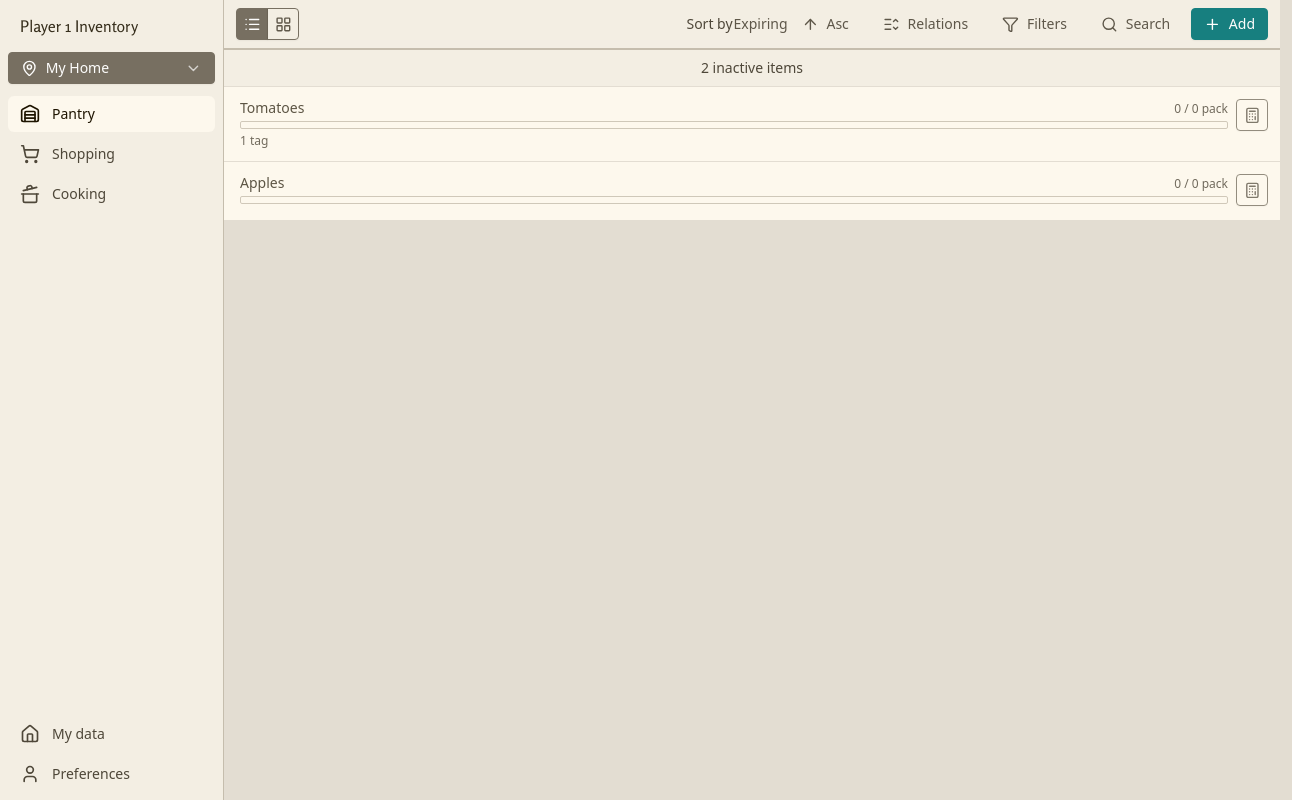
Test: Home page filtering integration › shows FilterStatus when filters active but toggle off
Expected: the heading "Tomatoes" is shown, 240,99 -> 304,116
# Enable filters and select a tag
Click the button with aria-label "toggle filters".
click(1035, 24)  # box 989,8 -> 1080,40
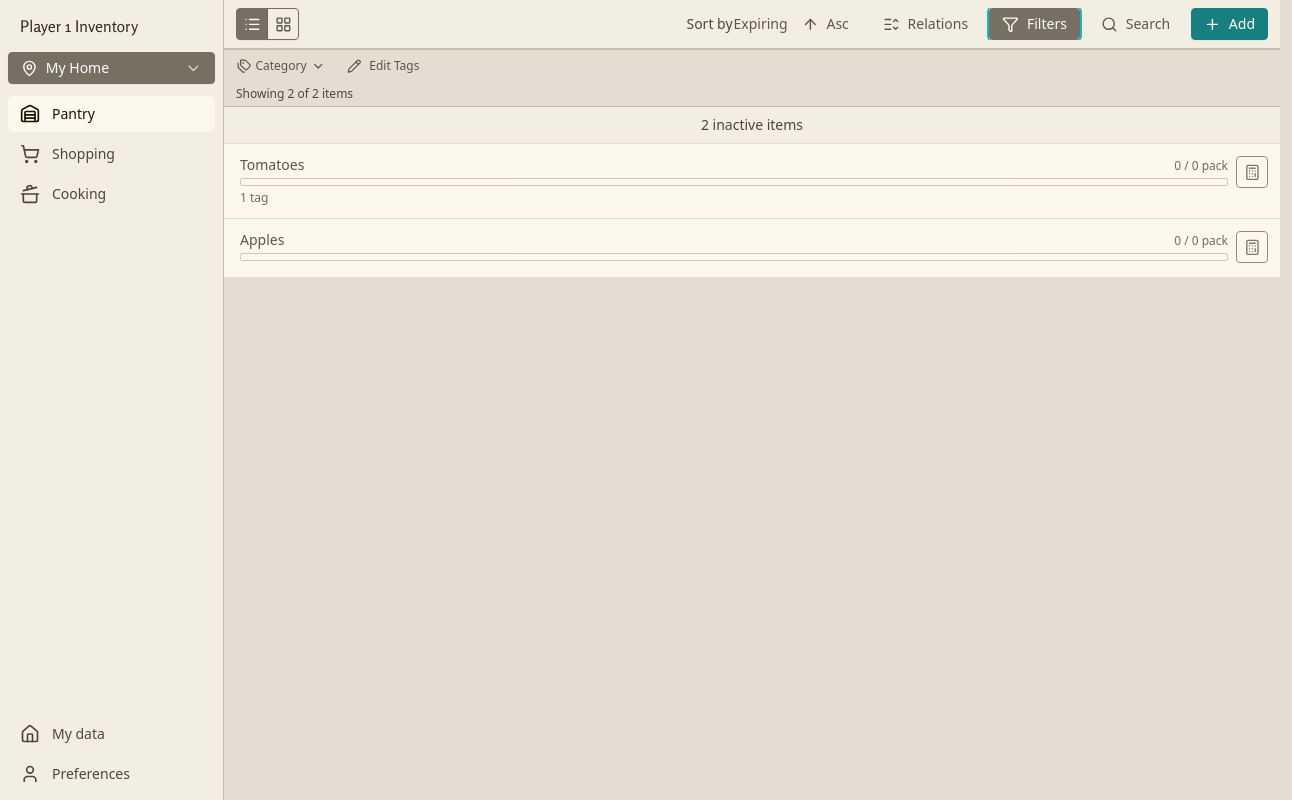
Click the button "Category".
click(281, 66)  # box 228,54 -> 334,78
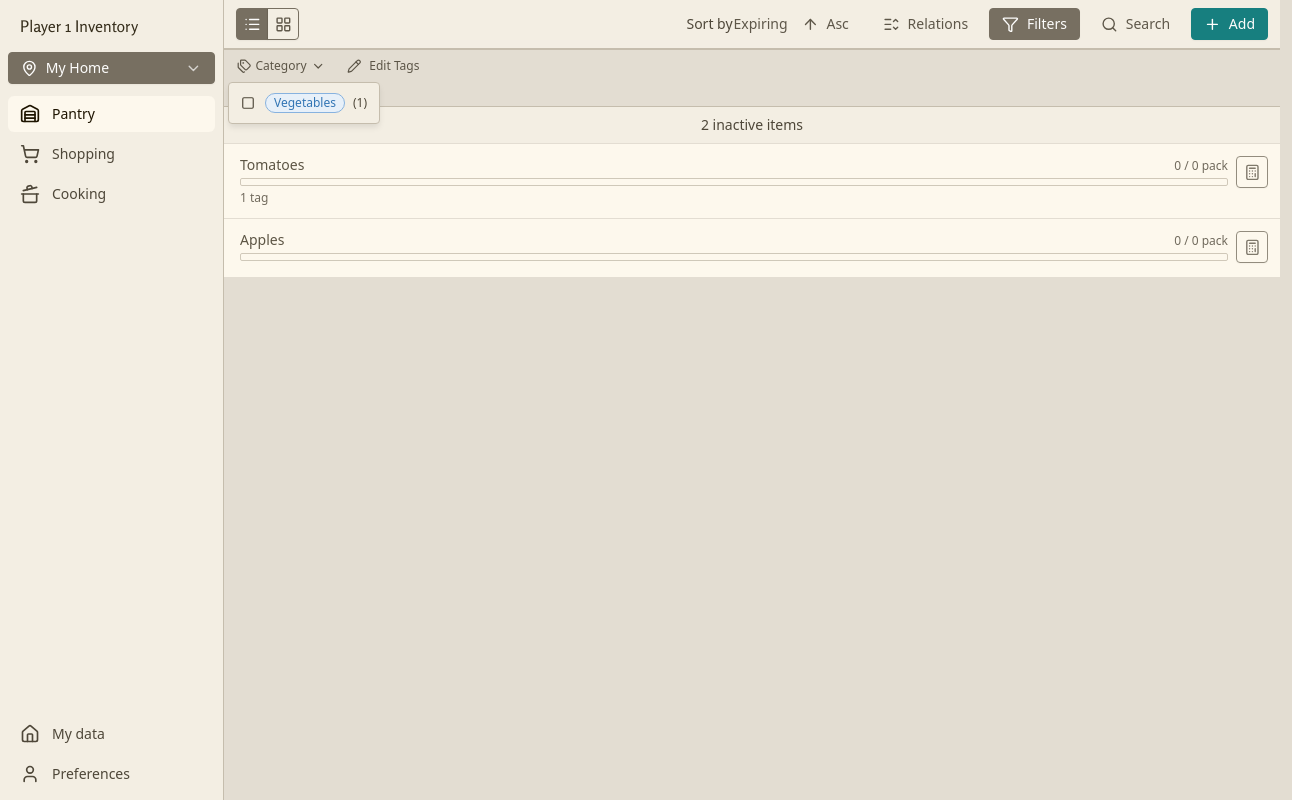
Click the menu item "Vegetables (1)".
click(304, 103)  # box 233,87 -> 375,119
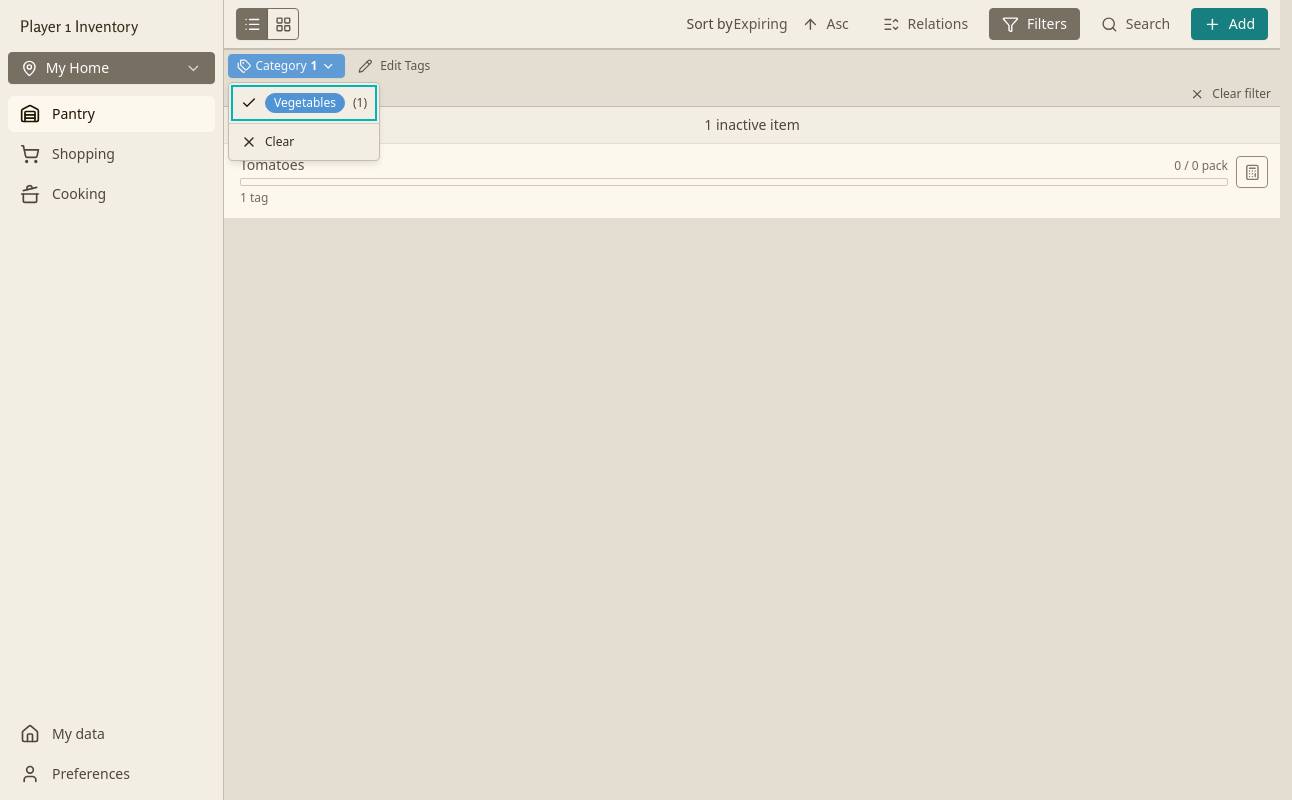
Expected: the heading "Tomatoes" is shown, 240,156 -> 304,174
Expected: the link "Apples" is gone
# Close dropdown
Press Escape
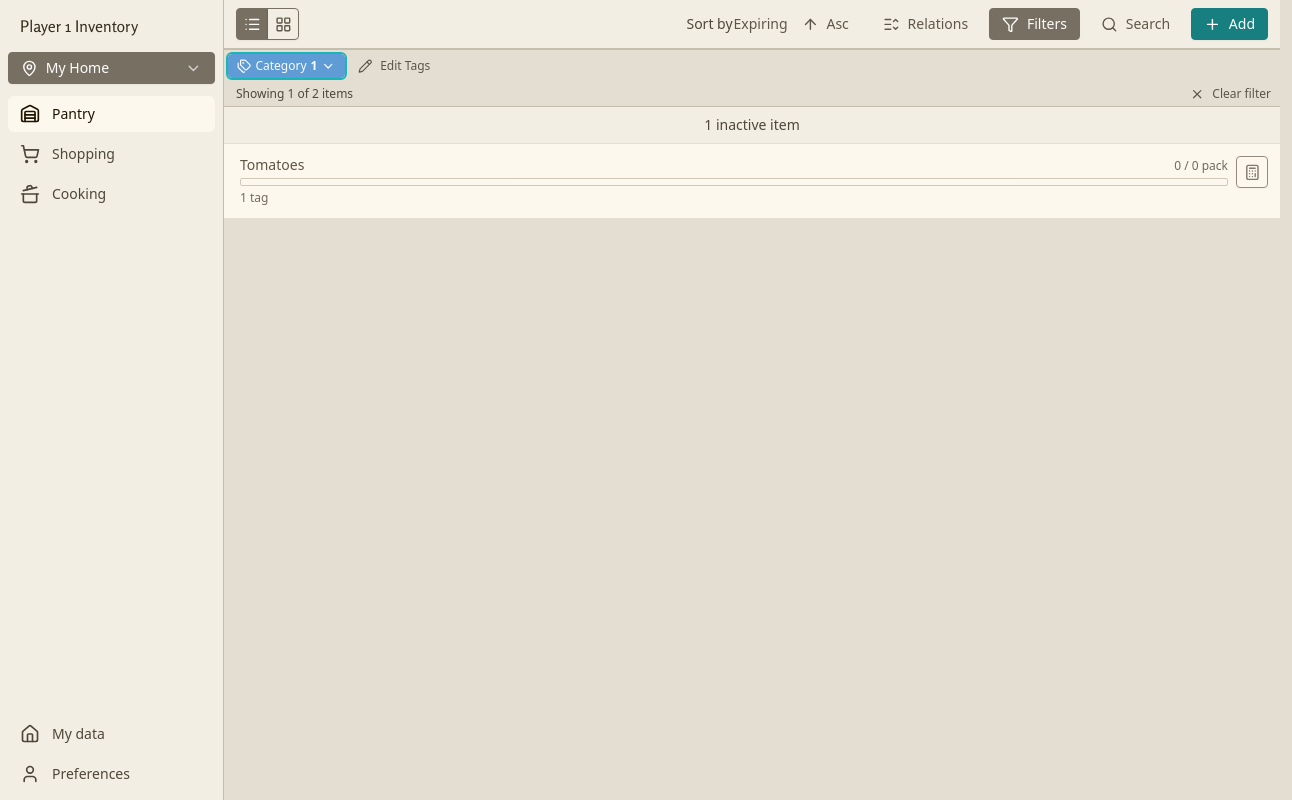
# Toggle filters OFF
Click the button with aria-label "toggle filters".
click(1035, 24)  # box 989,8 -> 1080,40
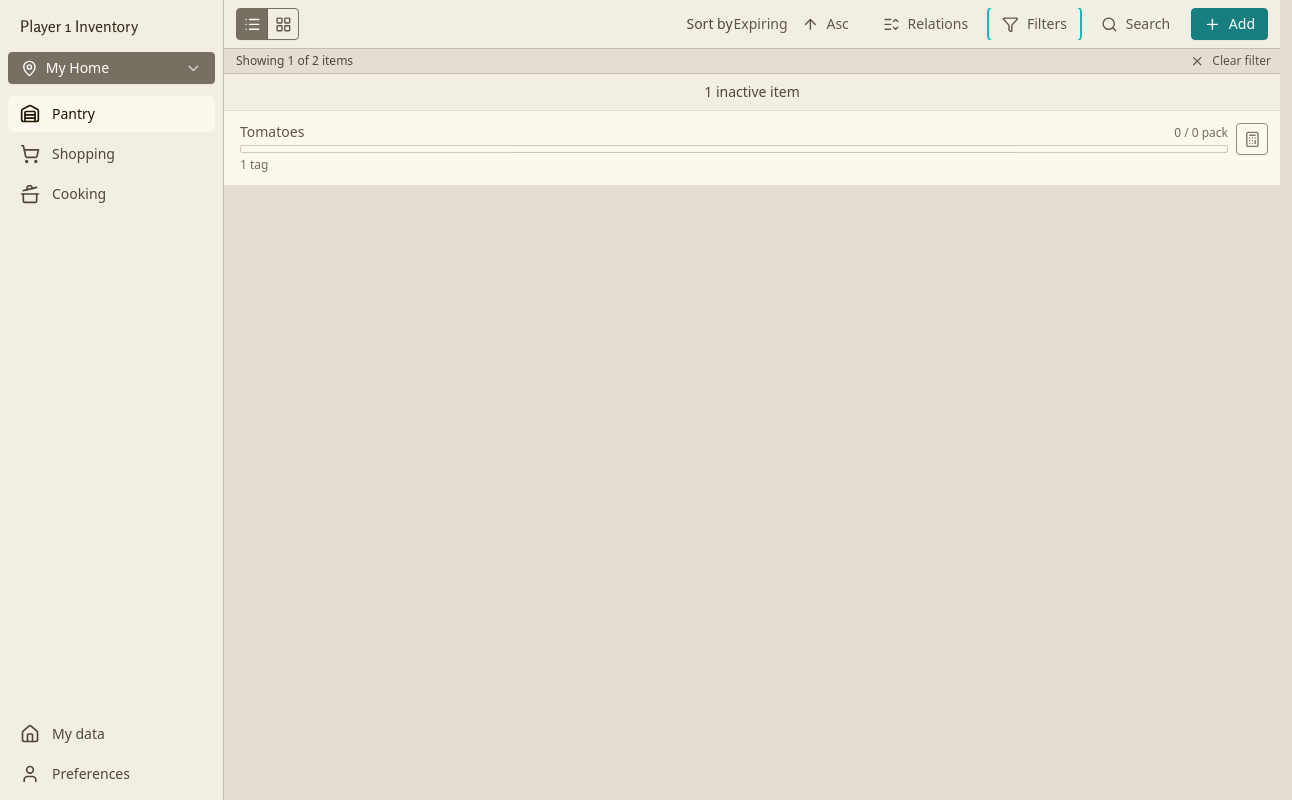
Expected: the text "Showing 1 of 2 items" is shown, 236,53 -> 353,69
Expected: the button "Clear filter" is shown, 1181,49 -> 1280,73
Expected: the button "Category" is gone
